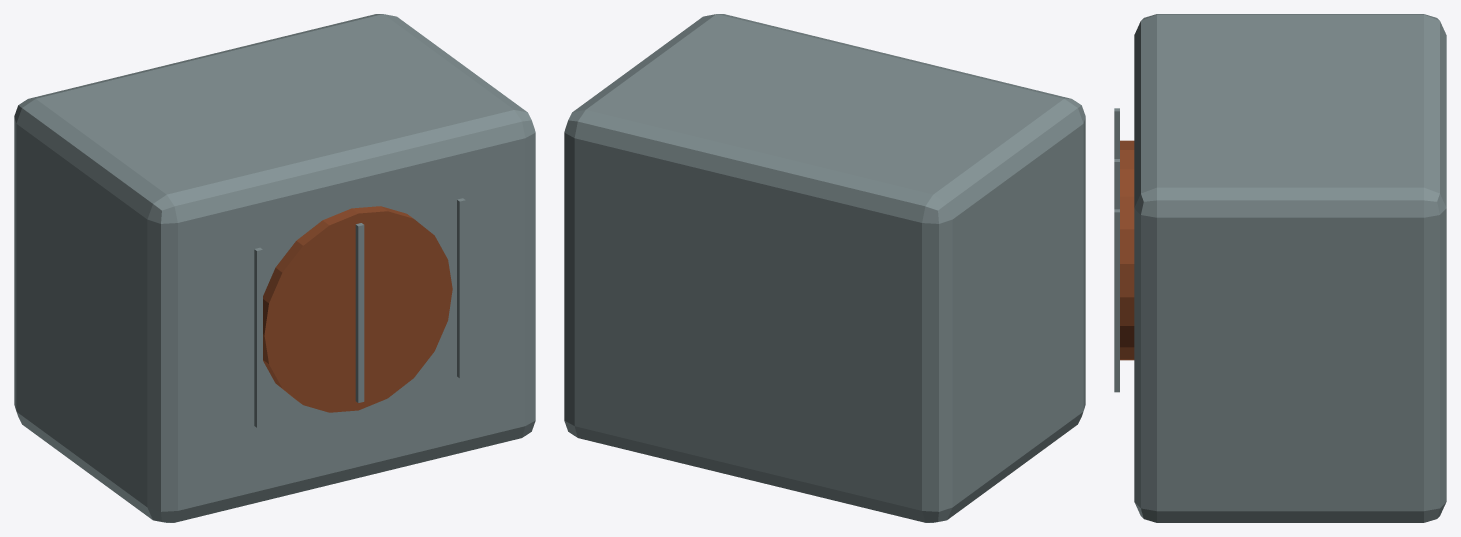
File: SM_FC01_Prop_HVAC_Rooftop_A.fbx
3 views of the same model, side by side, from view 1: azimuth 30°, elevation 25°; view 2: azimuth 150°, elevation 25°; view 3: azimuth 270°, elevation 25° (orthographic).
Visible parts, largest first — view 1: SM_FC01_Prop_HVAC_Rooftop_A_Body, SM_FC01_Prop_HVAC_Rooftop_A_Fan, SM_FC01_Prop_HVAC_Rooftop_A_Grille_0, SM_FC01_Prop_HVAC_Rooftop_A_Grille_-0.42, SM_FC01_Prop_HVAC_Rooftop_A_Grille_0.42; view 2: SM_FC01_Prop_HVAC_Rooftop_A_Body; view 3: SM_FC01_Prop_HVAC_Rooftop_A_Body, SM_FC01_Prop_HVAC_Rooftop_A_Fan, SM_FC01_Prop_HVAC_Rooftop_A_Grille_0.42.
Part boxes in pixels (x1,y1,x2,y2): SM_FC01_Prop_HVAC_Rooftop_A_Body: (14,14,535,522); SM_FC01_Prop_HVAC_Rooftop_A_Fan: (263,206,452,412); SM_FC01_Prop_HVAC_Rooftop_A_Grille_0: (355,223,364,402); SM_FC01_Prop_HVAC_Rooftop_A_Grille_-0.42: (254,247,262,427); SM_FC01_Prop_HVAC_Rooftop_A_Grille_0.42: (457,198,465,378); SM_FC01_Prop_HVAC_Rooftop_A_Body: (564,14,1085,522); SM_FC01_Prop_HVAC_Rooftop_A_Body: (1134,14,1446,522); SM_FC01_Prop_HVAC_Rooftop_A_Fan: (1120,140,1134,360); SM_FC01_Prop_HVAC_Rooftop_A_Grille_0.42: (1114,209,1119,392).
Bounding box in the file's own units: 1.6 × 1.3 × 1.17.
